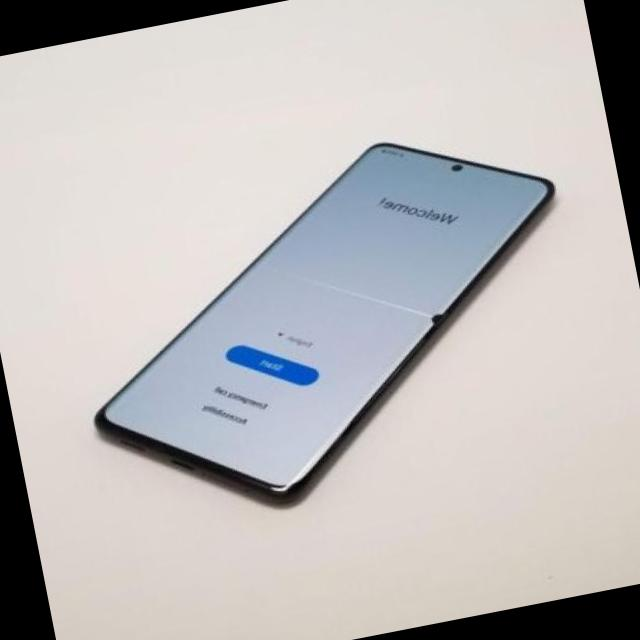dead pixel: (414, 303, 459, 336)
